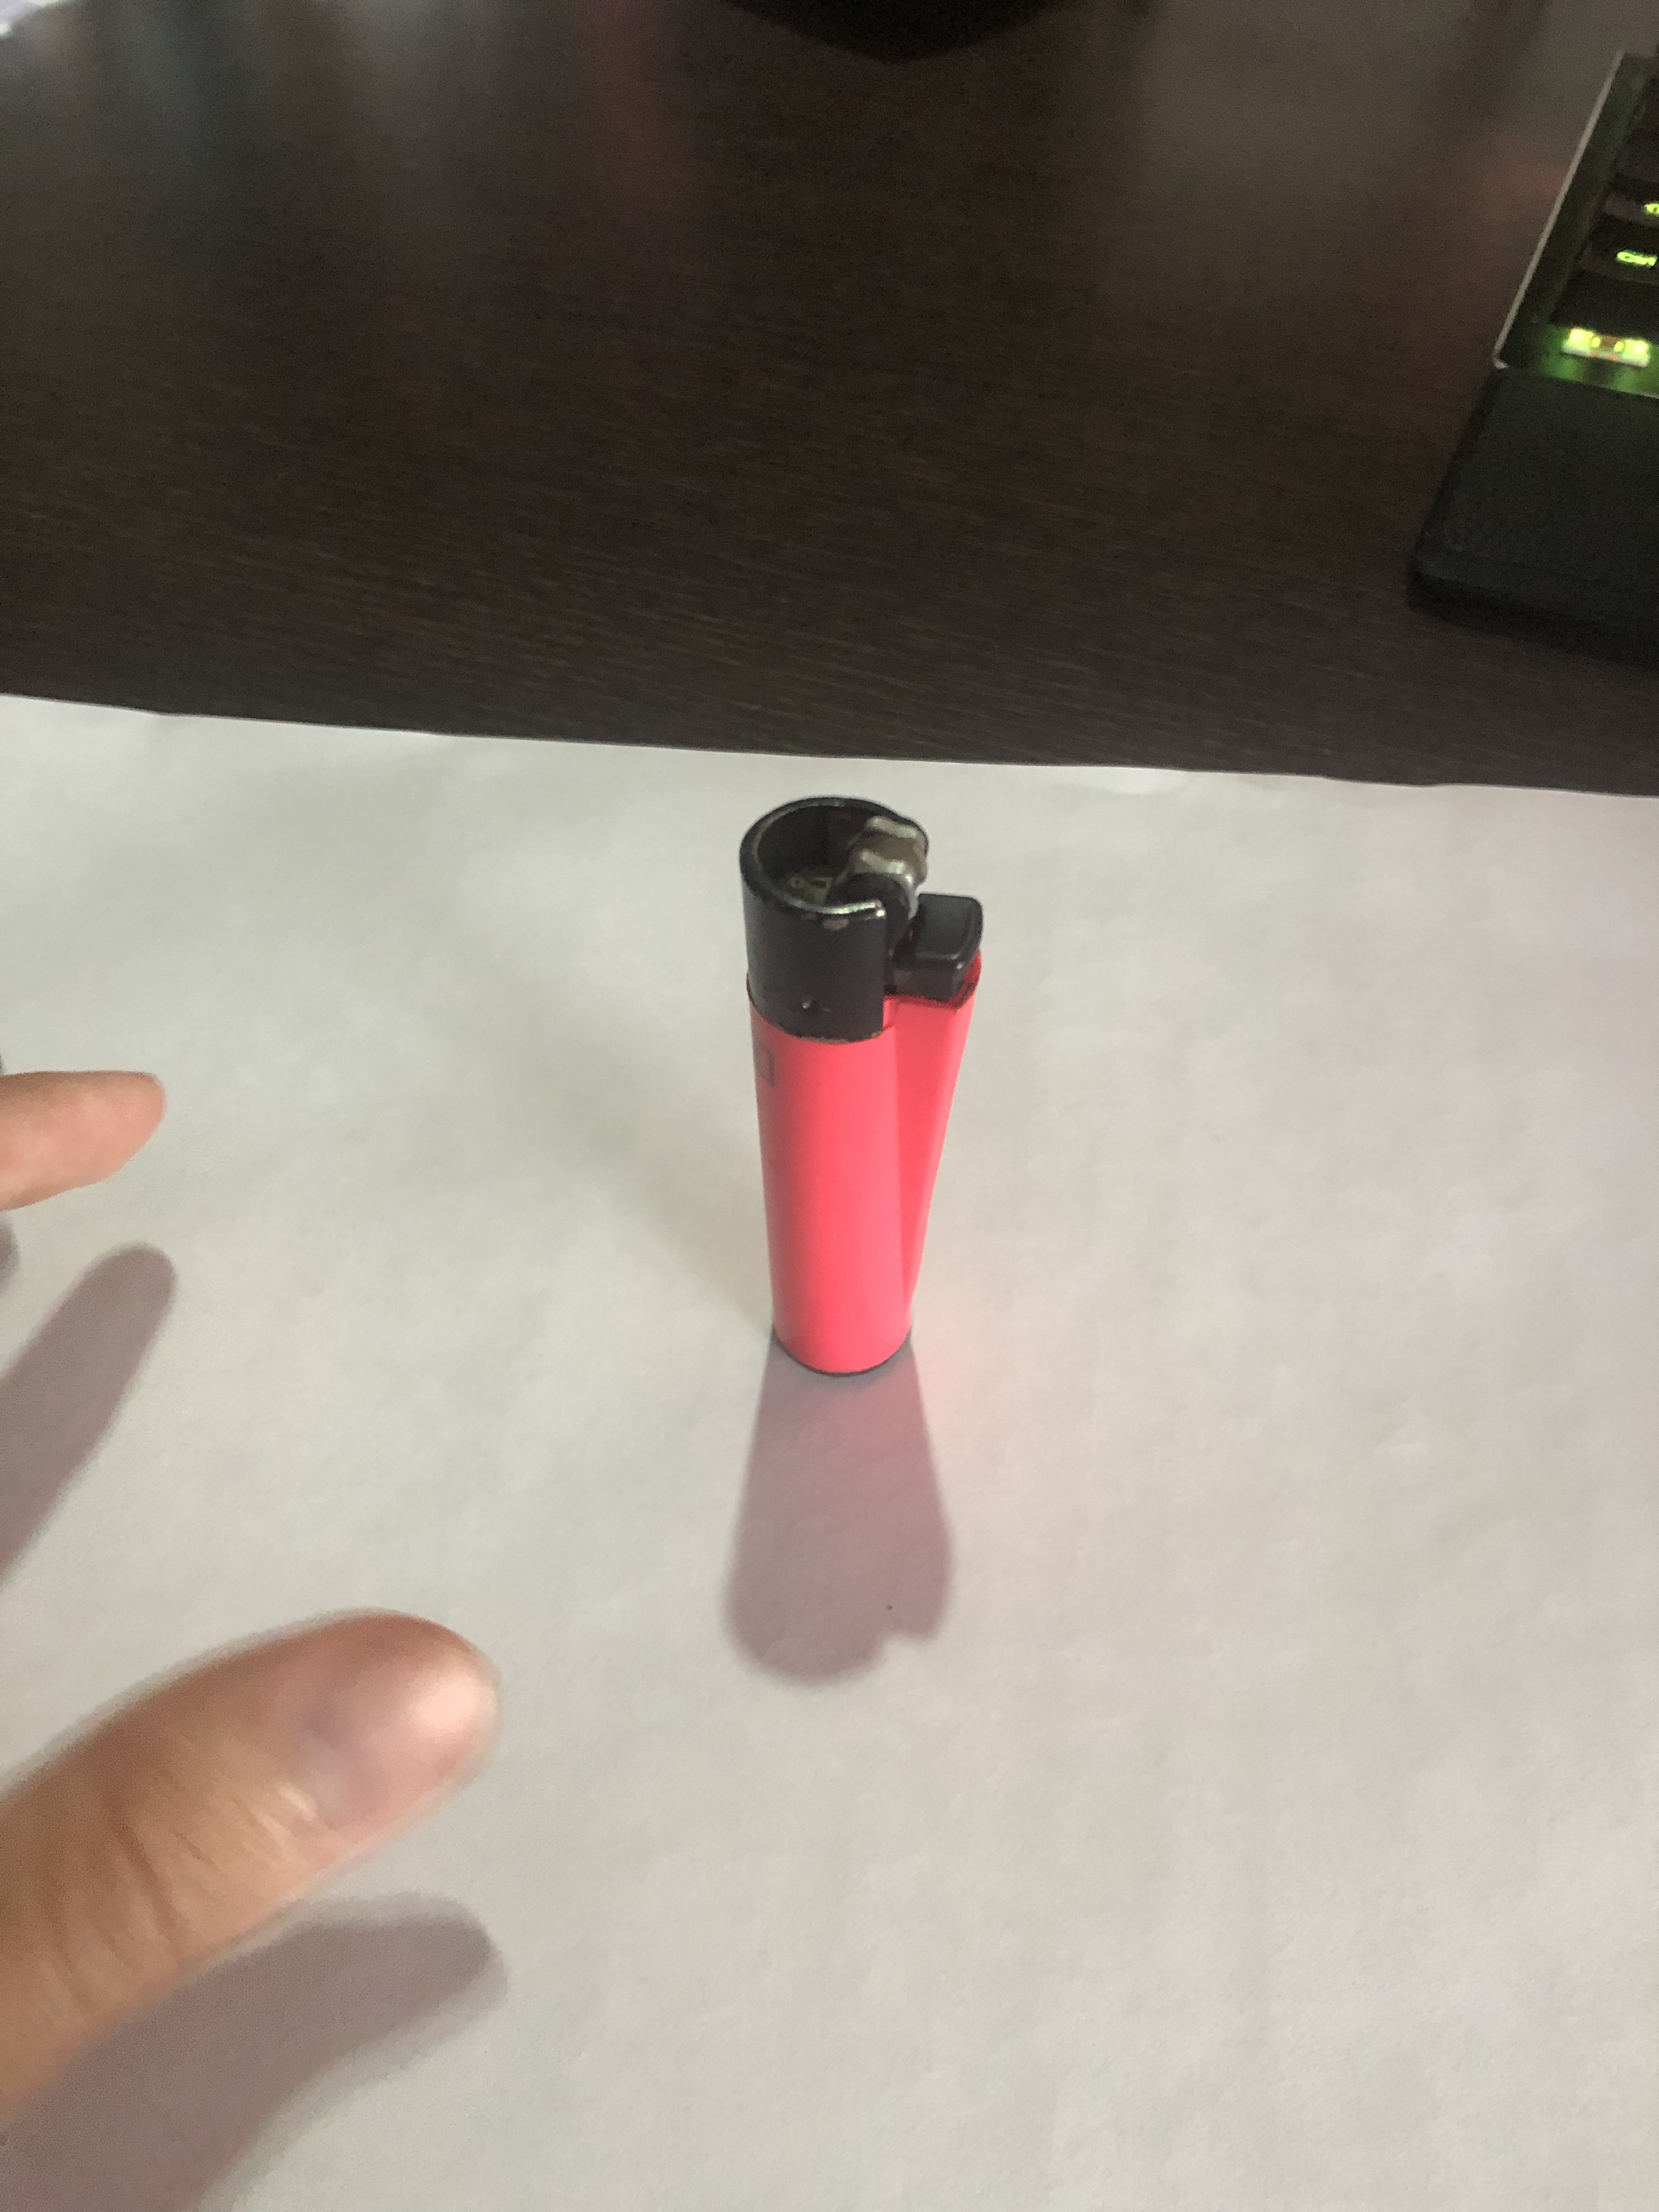Mechero: (727, 756, 997, 1428)
